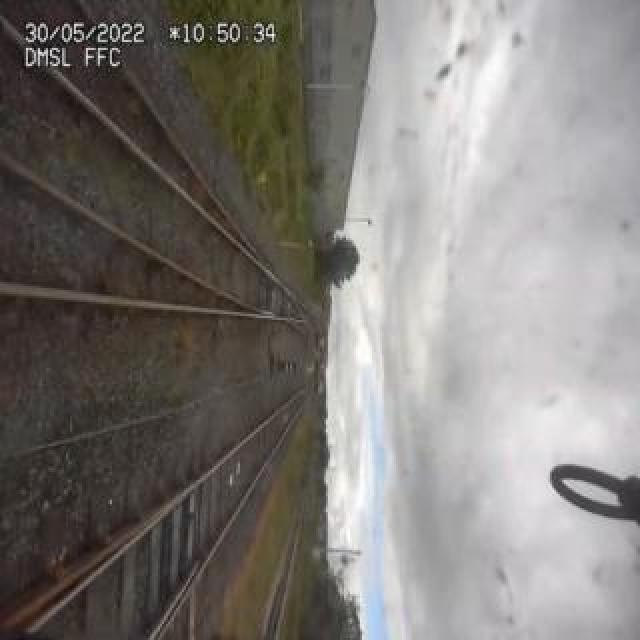rusted-track: (1, 274, 129, 316)
